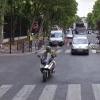Motorcycle: (31, 43, 59, 83)
